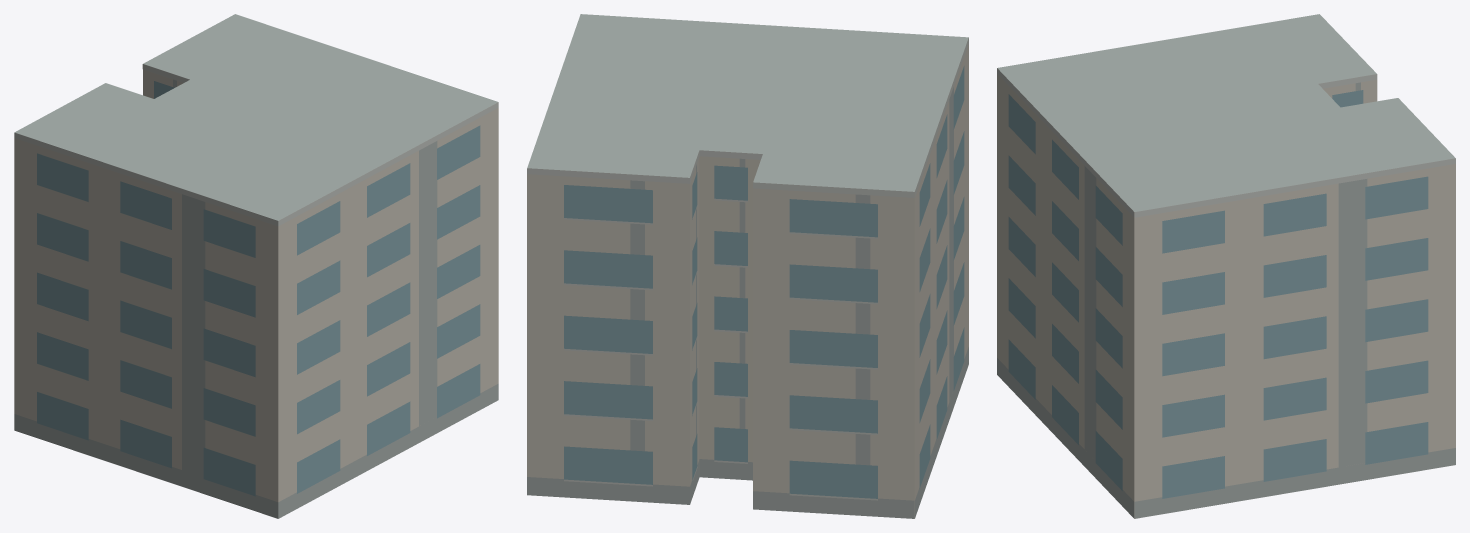
Rendered from survey-upis-32889242.glb.
3 views of the same model, side by side, from view 1: azimuth 30°, elevation 25°; view 2: azimuth 150°, elevation 25°; view 3: azimuth 270°, elevation 25° (orthographic). The views are drawn at different scales.
Visible parts, largest first — view 1: survey-upis-32889242.tmp; view 2: survey-upis-32889242.tmp; view 3: survey-upis-32889242.tmp.
Part boxes in pixels (x1,y1,x2,y2): survey-upis-32889242.tmp: (14, 14, 498, 518); survey-upis-32889242.tmp: (527, 14, 968, 518); survey-upis-32889242.tmp: (997, 14, 1455, 518).
Size of the model in its own units: 18.3 by 13.2 by 17.9.
